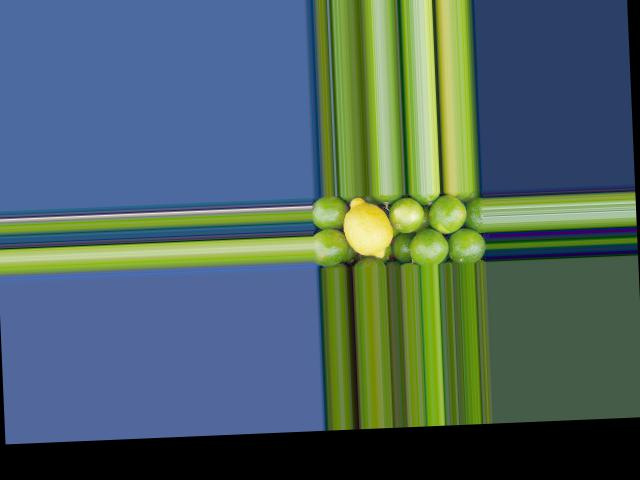lemon: (341, 197, 395, 260)
